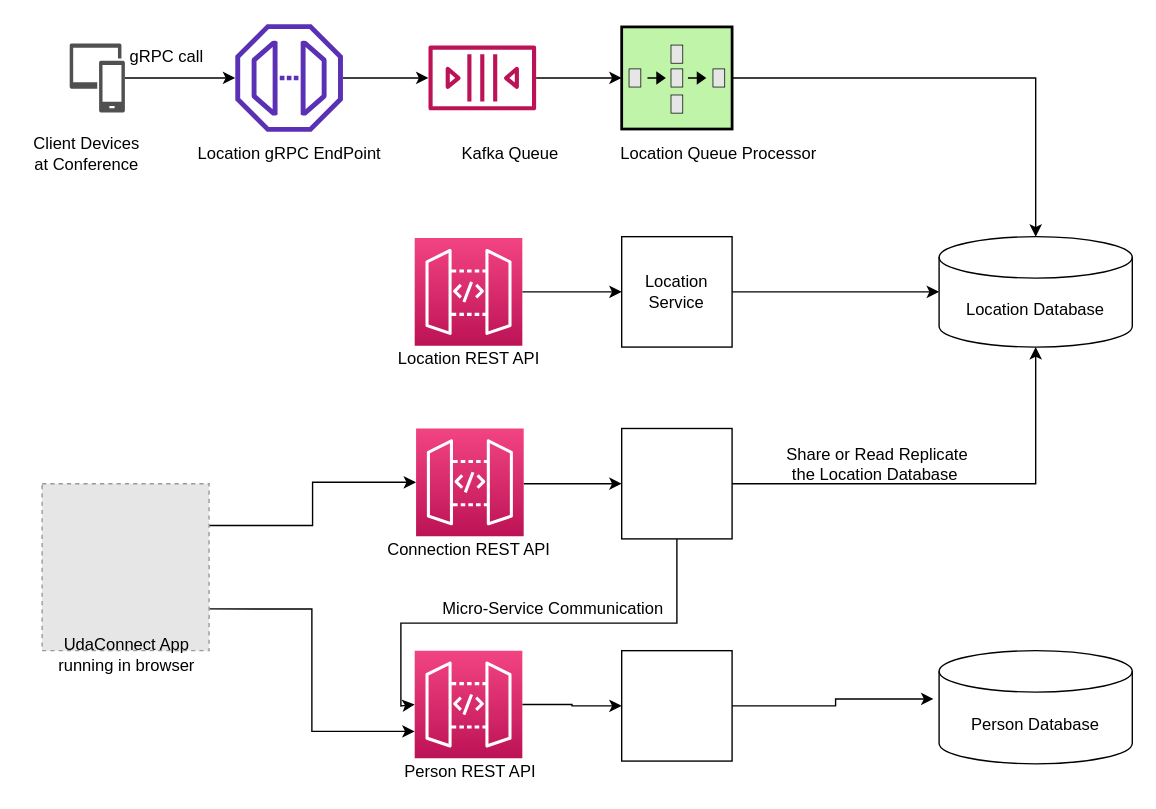
Image size: 1156x809. Some labels were removed from this diagram. Grey dashed boxes stand in for pictures. The shapes that lost their labels are listed below. From the top down, each one's box as (x1, y1, x2, y2) in pixels, then its label:
(620, 427, 732, 539): Connection Service
(620, 649, 732, 761): Person Service
